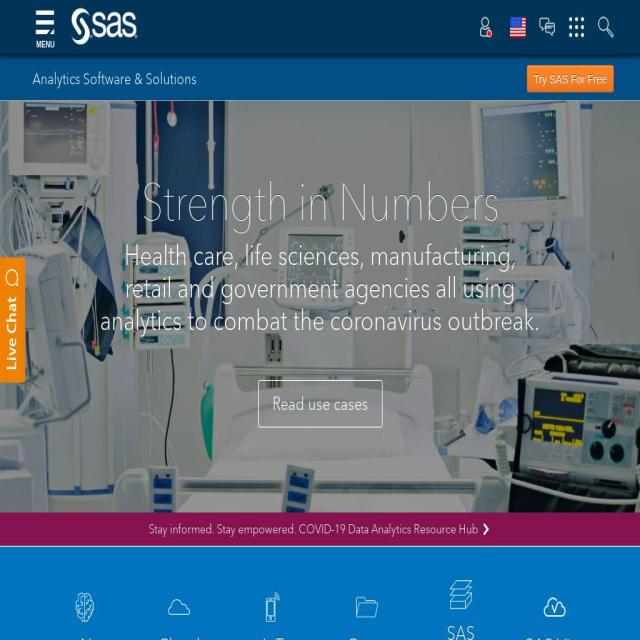button: (37, 546, 132, 640), (131, 546, 226, 640), (225, 546, 320, 640), (319, 546, 414, 640), (413, 546, 508, 640), (507, 546, 602, 640), (139, 522, 502, 536), (0, 258, 25, 382), (258, 398, 382, 412)
heading: (100, 238, 540, 338), (140, 171, 500, 233), (32, 68, 196, 88), (420, 621, 502, 640), (44, 632, 126, 640), (138, 632, 220, 640), (232, 632, 314, 640), (326, 632, 408, 640), (514, 632, 596, 640)
image: (67, 0, 142, 50), (2, 263, 21, 376), (74, 592, 96, 622), (168, 592, 190, 622), (262, 592, 284, 622), (356, 592, 378, 622), (544, 592, 566, 622), (450, 580, 472, 609)
text: (0, 96, 640, 512), (0, 546, 640, 640), (0, 512, 640, 546), (139, 512, 501, 546), (258, 380, 382, 428), (527, 65, 614, 93)
